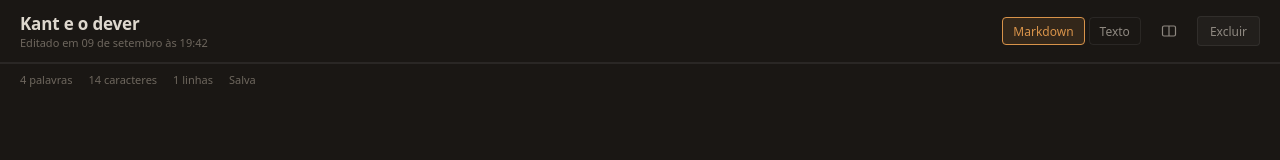
Test: busca dentro da nota › termo que não existe na nota diz que não há nada
Type keys "{Control>}f{/Control}"
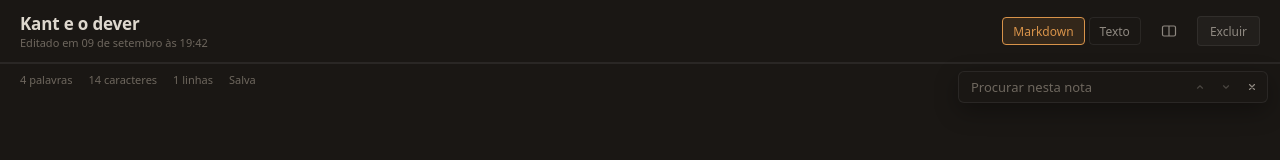
Type "Hegel" into the search field labelled "Procurar nesta nota" at (1049,87), box [969,77,1129,97]
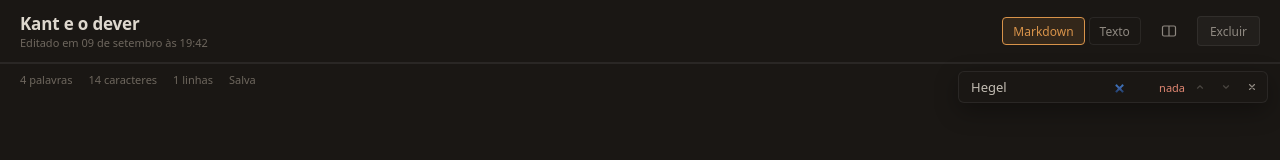
Check: the text "nada" is shown, box [1159,80,1185,94]
